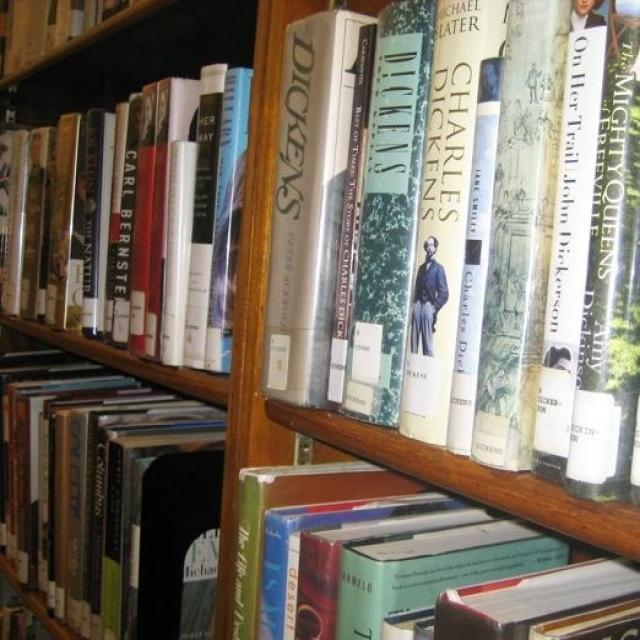book: (338, 9, 432, 423), (257, 12, 336, 408), (317, 23, 374, 407), (200, 66, 252, 370), (75, 110, 111, 334), (112, 95, 144, 342), (47, 118, 80, 326), (83, 409, 112, 635), (2, 128, 32, 314), (53, 403, 75, 625), (8, 386, 32, 583), (37, 404, 52, 600), (2, 392, 15, 564), (52, 2, 87, 49), (44, 1, 61, 52), (3, 5, 15, 71)
